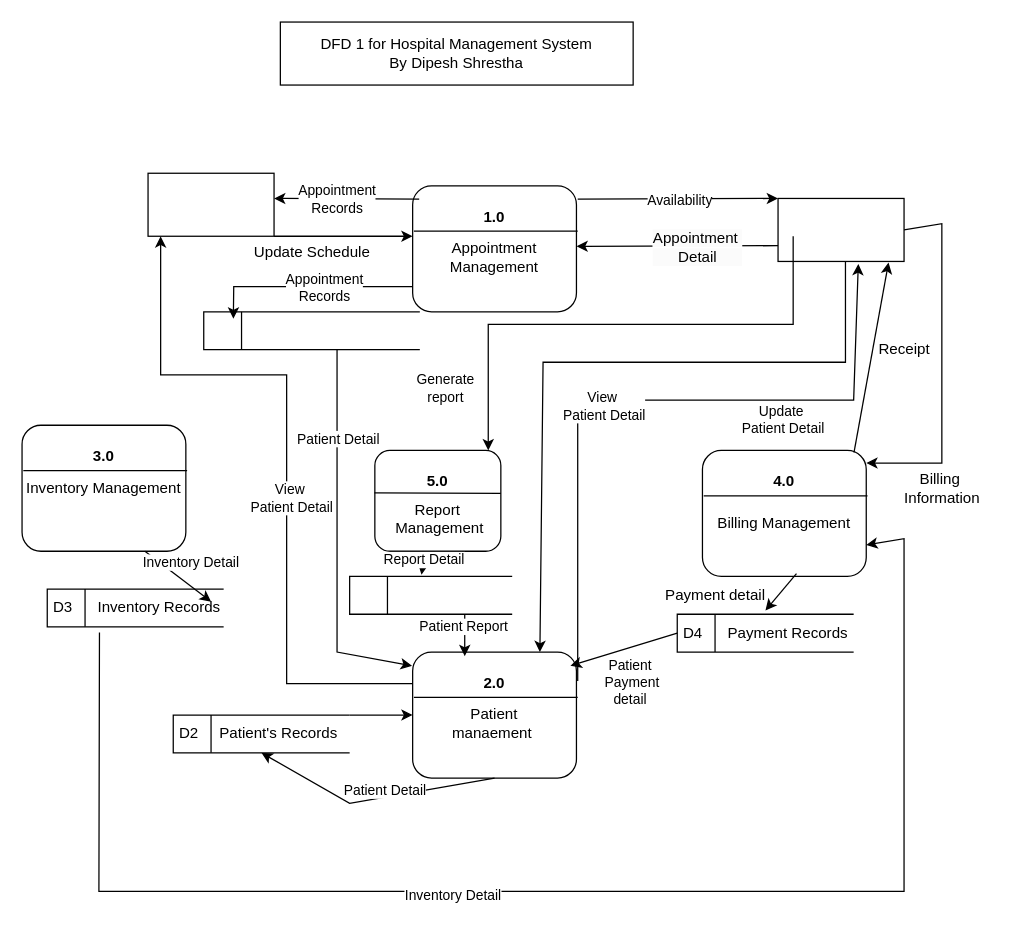
This 1014x925 diagram has some shape labels left out. Each missing label, with the centre of its shape:
D1 Appointment Records: pixel 311 330
D5 Report Records: pixel 430 594
Doctor: pixel 210 204
Staff: pixel 840 229
